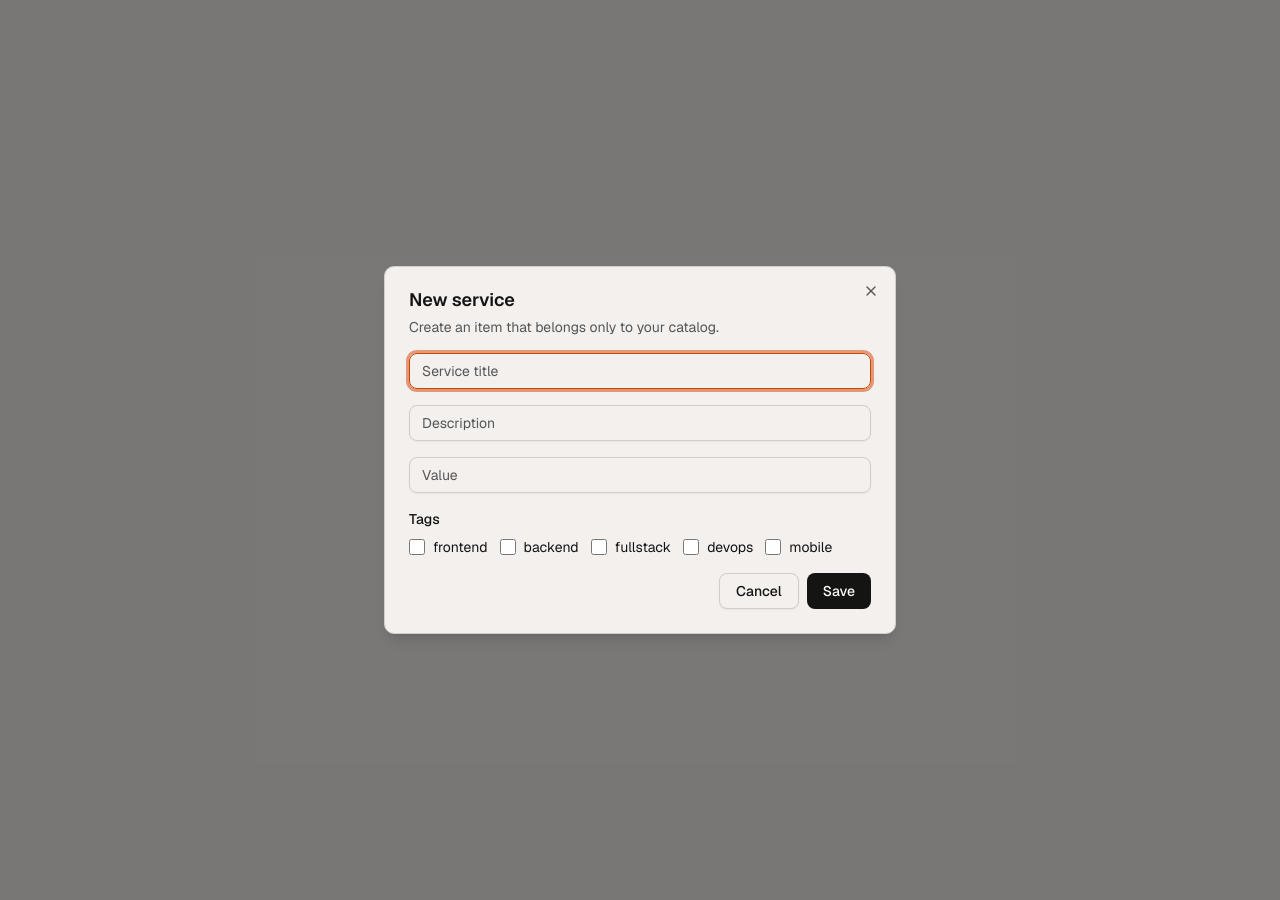
Test: CatalogItemDialog — server error surfacing › renders the generic message when an unexpected error occurs
In the field labelled "title": (640, 371) top-left (409, 353), bottom-right (871, 389), type "New Service"
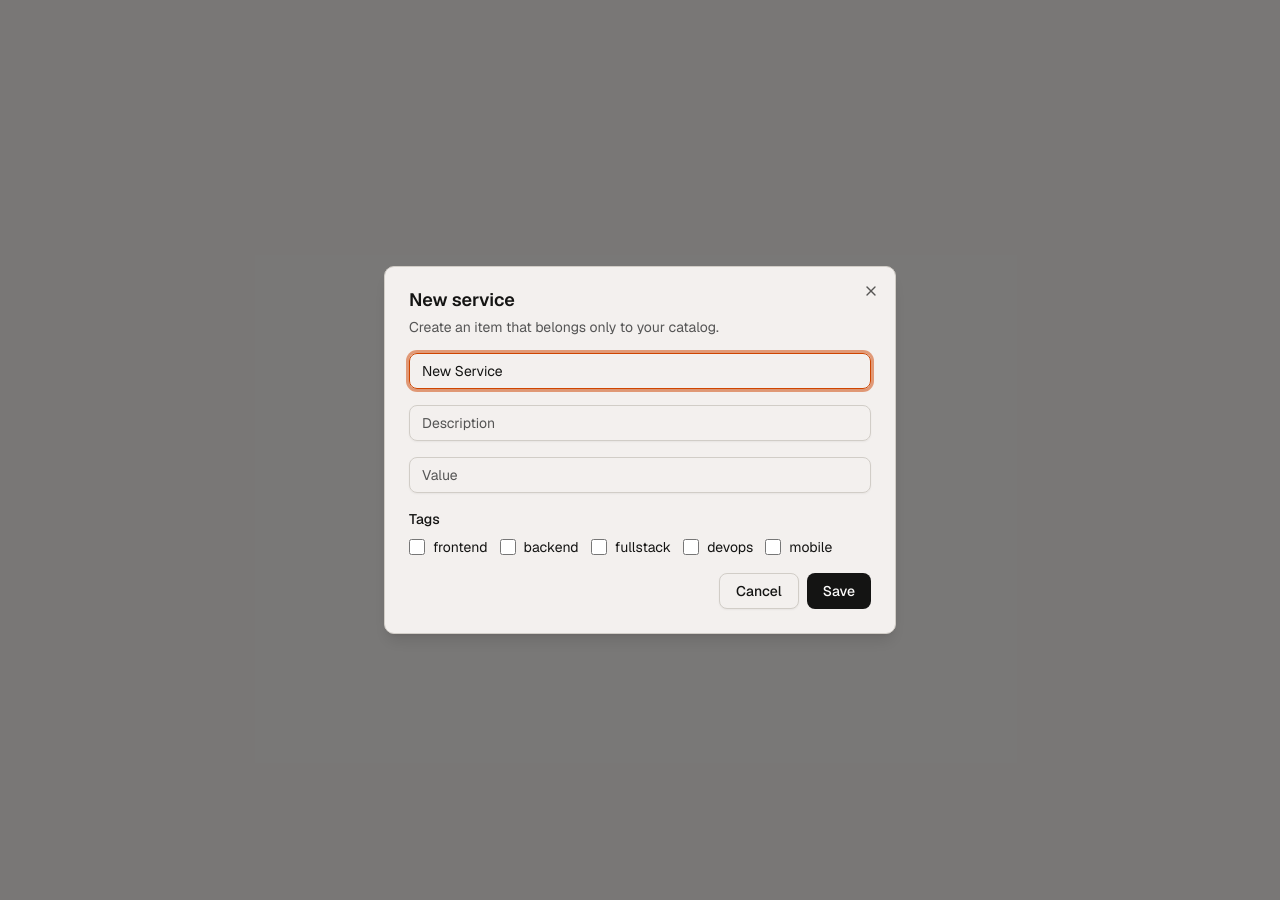
Click the button "Save": (839, 591) top-left (807, 573), bottom-right (871, 609)
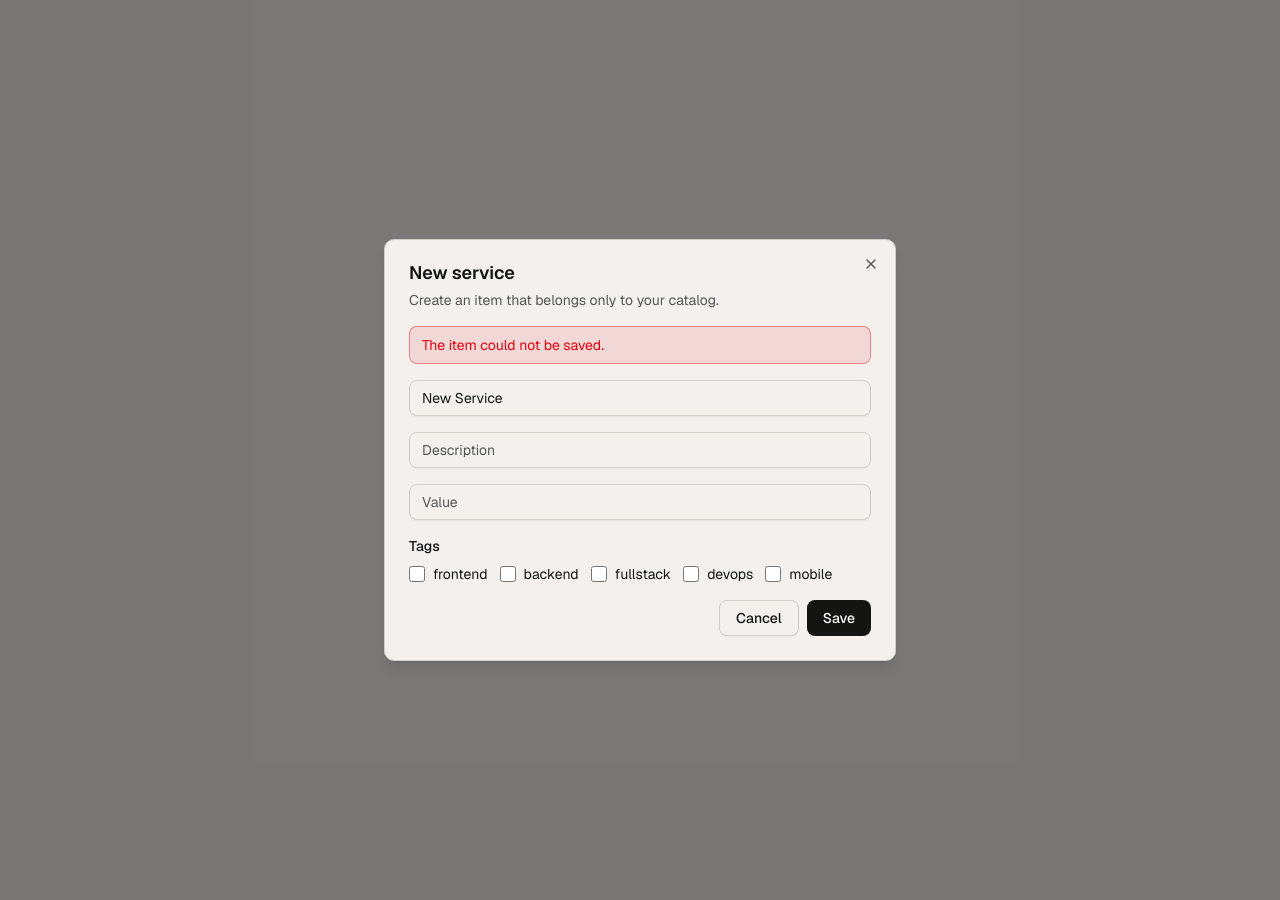
Now the text "The item could not be saved." is shown, box top-left (409, 326), bottom-right (871, 364)
